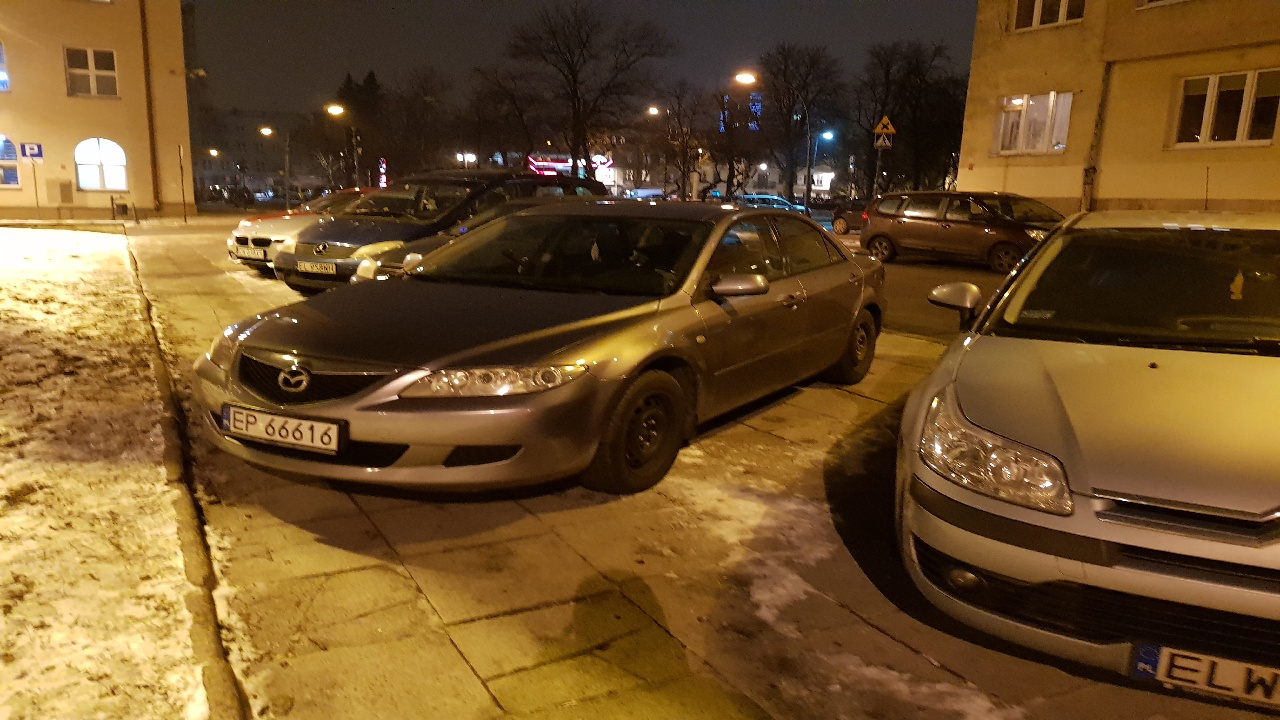A5: (873, 115, 896, 135)
D18: (20, 143, 42, 157)
